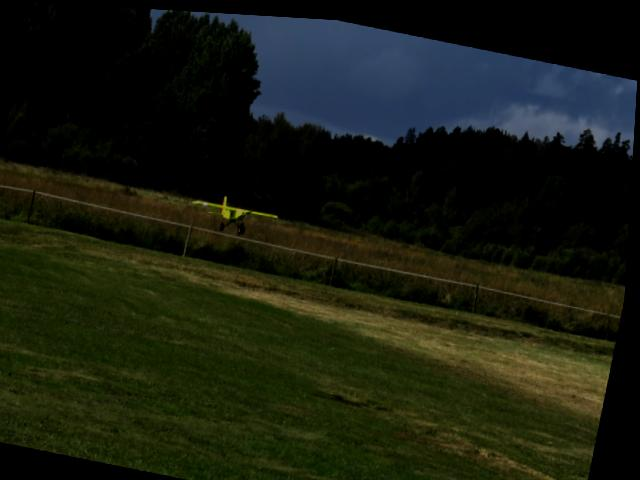plane: (190, 184, 282, 235)
